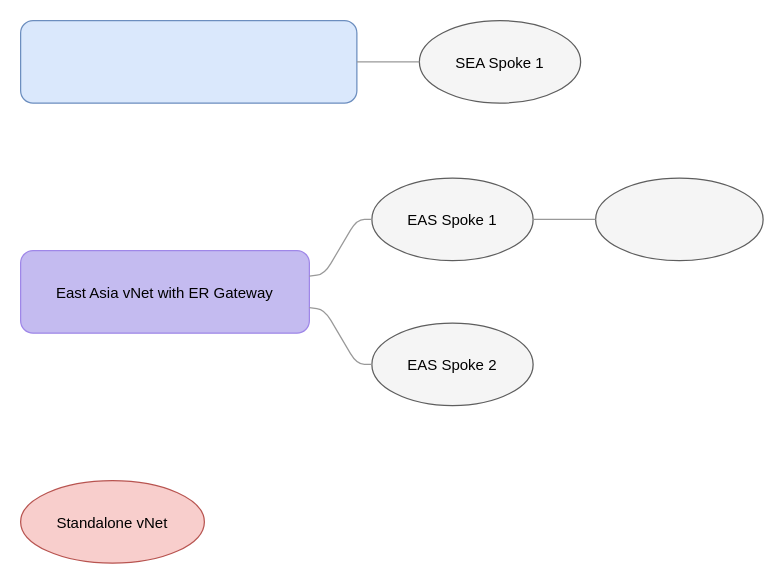
Image size: 784x584. Some labels were removed from this diagram. Each missing label, with the centre of its shape:
Southeast Asia vNet with VPN Gateway: (188,61)
Transitive Site: (678,219)
